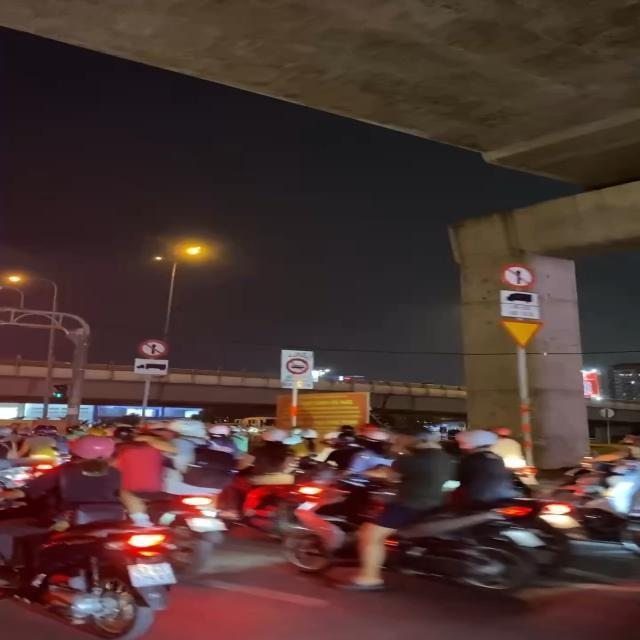136-cam-di-thang: (500, 264, 536, 290), (137, 338, 169, 358)
208-giao-nhau-voi-duong-uu-tien: (498, 318, 542, 347)
